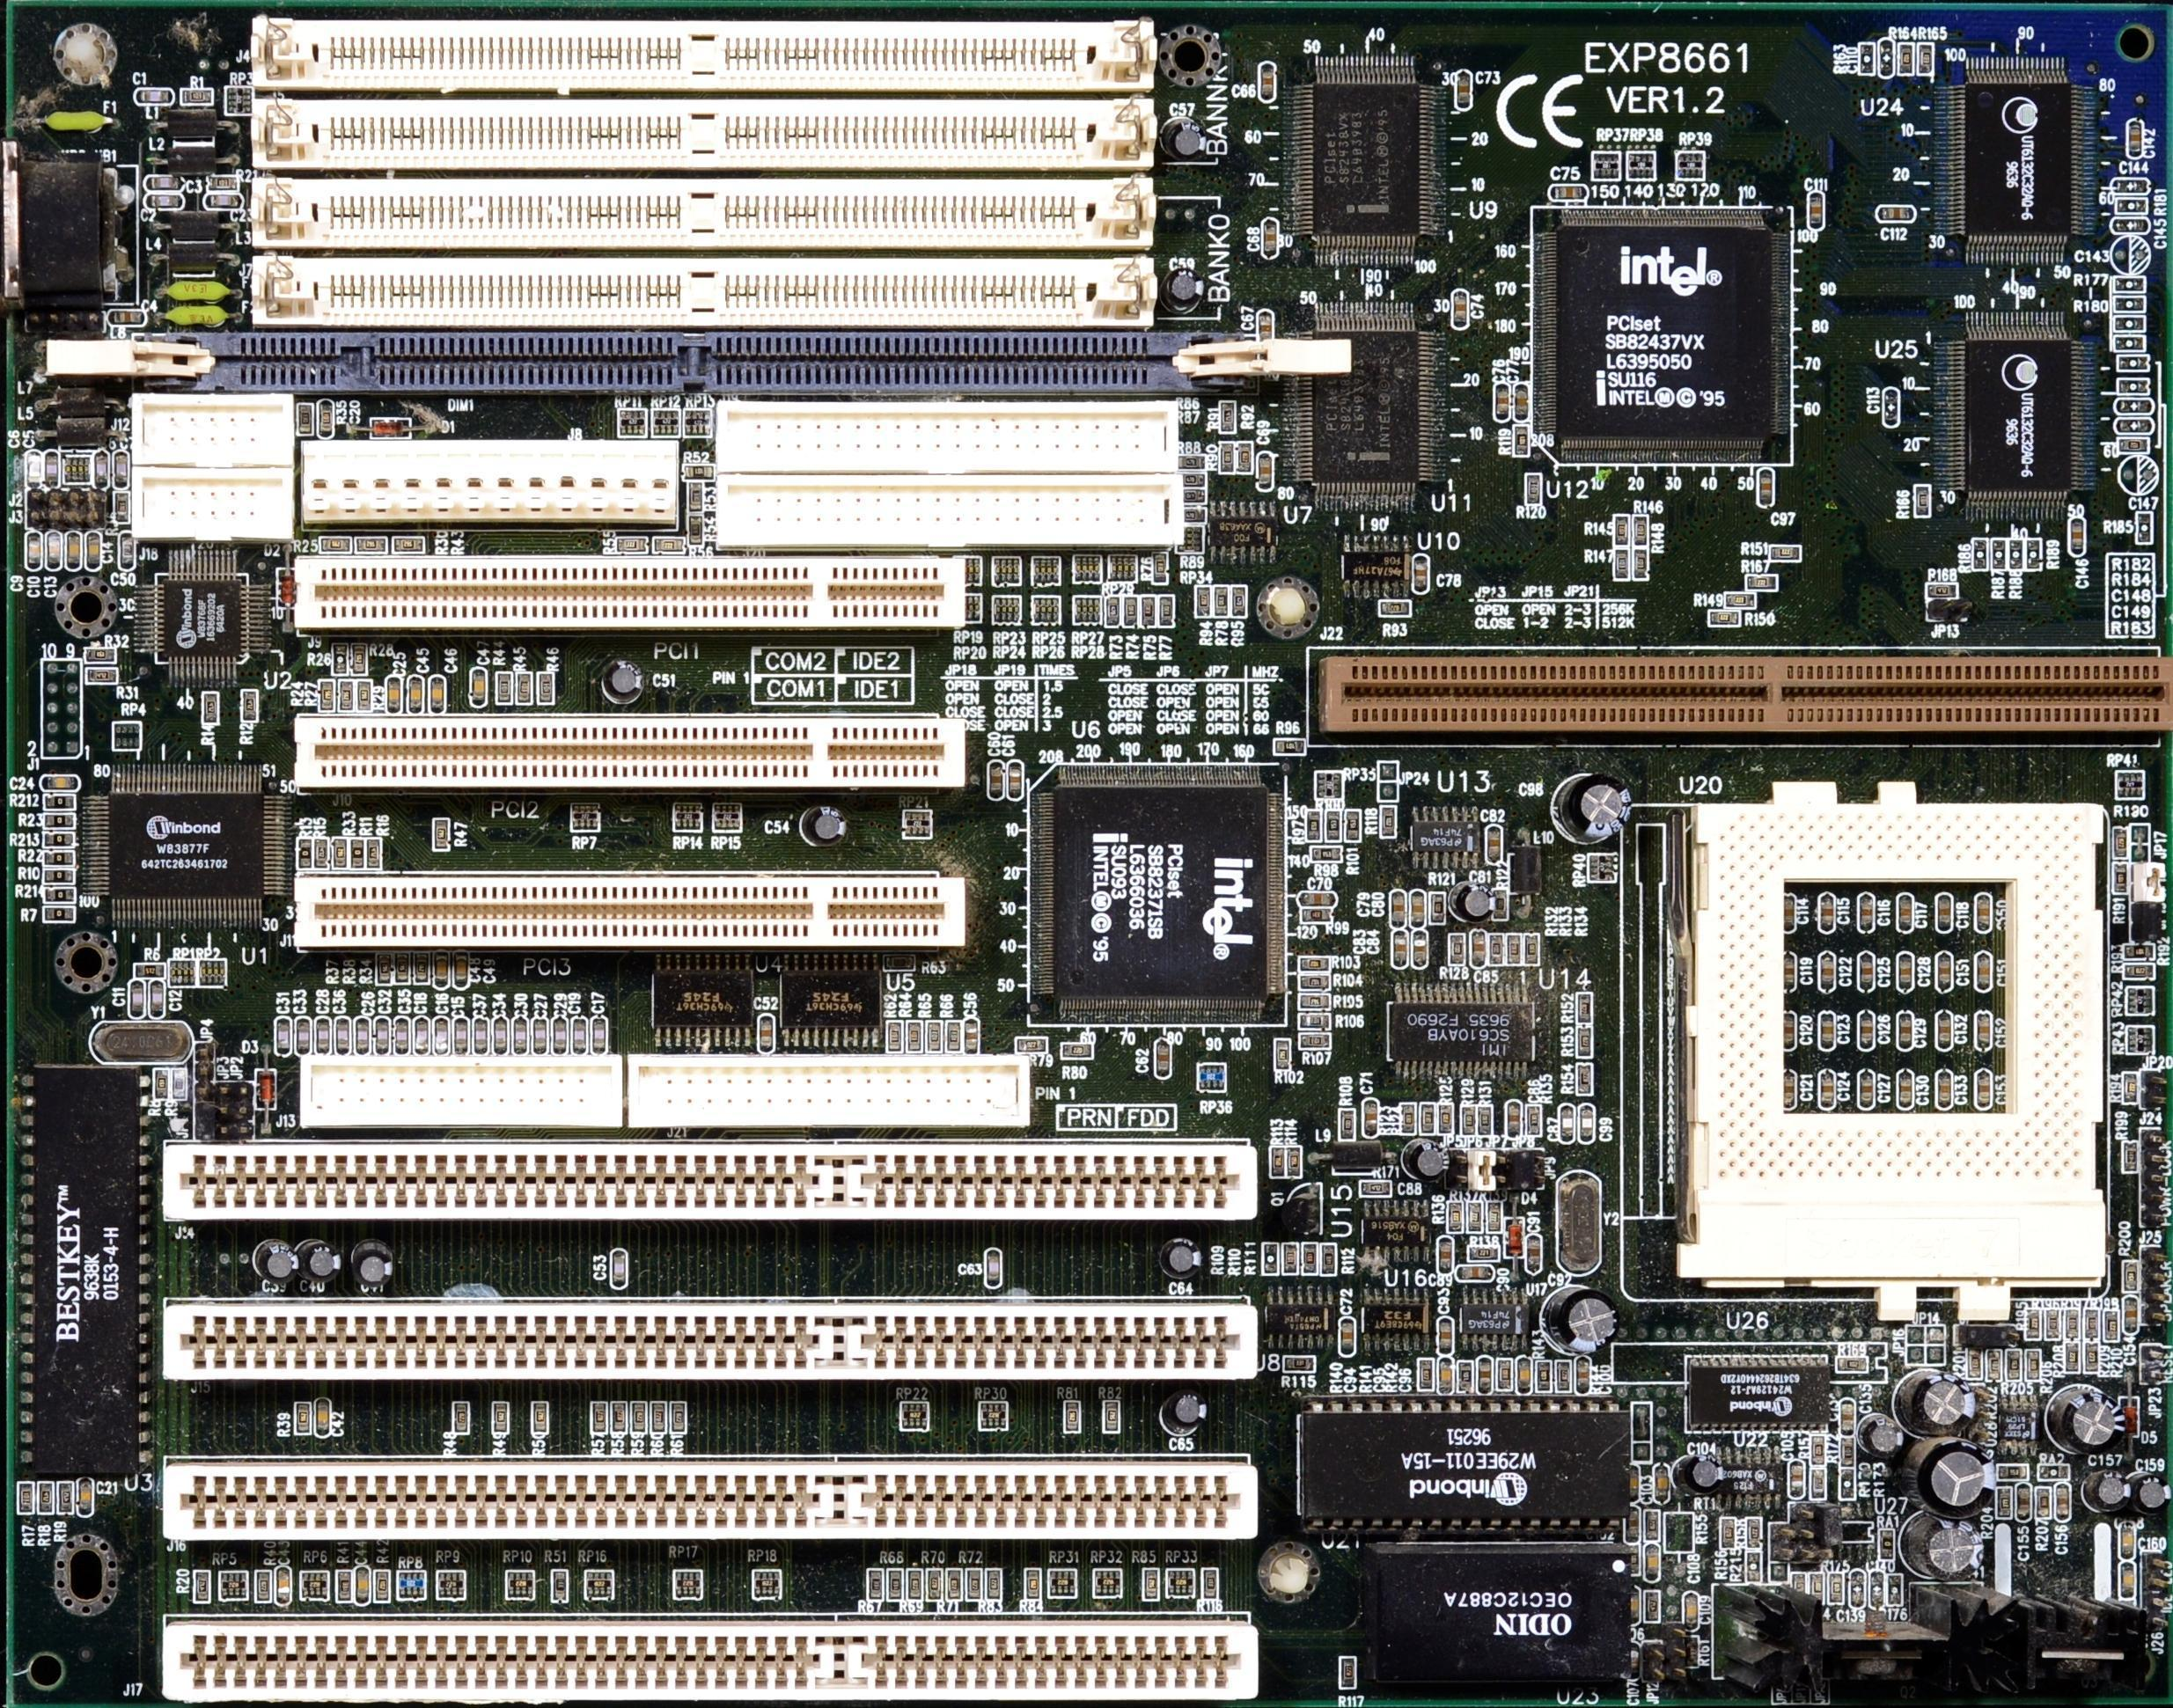Capacitor: (1452, 883, 1491, 921), (1854, 1005, 1880, 1052), (1932, 946, 1956, 994), (1969, 951, 1994, 994), (1881, 385, 1902, 437), (1972, 1064, 1995, 1111), (1934, 1067, 1956, 1112), (1816, 1008, 1840, 1050), (1895, 947, 1916, 993), (1854, 951, 1877, 993), (1856, 886, 1875, 935), (2123, 121, 2147, 161), (606, 1247, 629, 1287), (1934, 891, 1955, 934), (1976, 1005, 1995, 1051), (2112, 212, 2148, 237), (1934, 1010, 1953, 1053), (1973, 892, 1993, 935), (1818, 953, 1838, 995), (1337, 1315, 1356, 1356), (2118, 1562, 2137, 1602), (144, 194, 186, 213), (2118, 1521, 2138, 1560), (41, 449, 60, 487), (985, 764, 1004, 802), (393, 1013, 410, 1055), (1435, 1235, 1452, 1276), (355, 1565, 371, 1608), (1898, 1008, 1913, 1053), (1756, 473, 1778, 503), (318, 400, 337, 437), (65, 531, 84, 568), (1782, 1009, 1799, 1051), (1818, 1068, 1837, 1108), (1579, 1103, 1596, 1145), (1787, 1459, 1805, 1499), (1255, 307, 1276, 341), (963, 1018, 980, 1063), (135, 89, 173, 106), (127, 981, 146, 1017), (532, 1011, 549, 1050), (432, 1013, 451, 1052), (415, 1015, 433, 1053), (547, 1018, 567, 1054), (2014, 1484, 2032, 1522), (1642, 1544, 1661, 1579), (114, 449, 130, 488), (473, 1012, 489, 1053), (760, 1014, 776, 1055), (1438, 1317, 1455, 1354), (78, 1479, 95, 1515), (1623, 1587, 1641, 1625), (1682, 1591, 1699, 1628), (1260, 219, 1278, 255), (1452, 291, 1470, 327), (94, 451, 111, 488), (25, 531, 43, 570), (1387, 893, 1406, 927), (1409, 889, 1425, 929), (1898, 892, 1914, 932), (1896, 1070, 1912, 1110), (1849, 1567, 1865, 1607), (1857, 1067, 1872, 1110), (1809, 193, 1825, 228), (1879, 204, 1913, 223), (1413, 556, 1431, 593), (515, 1012, 531, 1051), (1525, 1235, 1541, 1274), (1457, 1266, 1495, 1281), (276, 1569, 293, 1608), (1868, 1570, 1884, 1609), (409, 677, 425, 716), (1782, 891, 1796, 934), (573, 1015, 587, 1057), (1362, 1096, 1376, 1139), (2112, 179, 2147, 195), (1818, 893, 1834, 931), (277, 1018, 292, 1055), (1259, 452, 1274, 489), (495, 1016, 509, 1057), (1547, 186, 1588, 199), (989, 1249, 1002, 1294), (1391, 932, 1408, 968), (149, 981, 165, 1017), (1839, 1401, 1856, 1436), (204, 195, 239, 211), (1496, 386, 1512, 421), (2072, 519, 2089, 555), (83, 534, 99, 570), (1516, 1356, 1531, 1394), (1459, 74, 1474, 108), (452, 951, 467, 985), (1560, 1107, 1575, 1140), (2057, 1485, 2072, 1519), (146, 172, 180, 188), (27, 451, 42, 484), (43, 774, 77, 789), (1262, 62, 1279, 95), (356, 1016, 371, 1053), (591, 1017, 606, 1054), (1783, 1071, 1798, 1108), (317, 1400, 331, 1436), (1413, 932, 1427, 968), (317, 1016, 332, 1052), (297, 1018, 311, 1054), (1654, 1467, 1668, 1501), (48, 533, 62, 568), (472, 667, 485, 701), (429, 678, 444, 715), (340, 1015, 353, 1053), (455, 1015, 468, 1054), (1520, 385, 1533, 422), (1439, 1360, 1453, 1393), (1880, 42, 1895, 77), (1626, 1506, 1638, 1543), (435, 951, 448, 984), (120, 535, 135, 567), (1007, 763, 1022, 795), (1472, 931, 1486, 966), (377, 1018, 390, 1053), (1506, 1101, 1519, 1137), (1478, 1357, 1491, 1393), (1576, 1360, 1589, 1395), (1785, 951, 1795, 993), (389, 678, 401, 711), (1488, 827, 1501, 861), (2125, 1295, 2136, 1332), (1298, 893, 1334, 905), (1628, 1467, 1638, 1500), (1629, 1644, 1638, 1677)
Connector: (162, 1455, 1261, 1540), (166, 1303, 1253, 1382), (55, 331, 1292, 394), (166, 1148, 1256, 1217), (249, 171, 1164, 250), (172, 1621, 1239, 1688), (253, 15, 1152, 92), (261, 259, 1152, 324), (257, 104, 1146, 166), (300, 713, 963, 792), (290, 874, 969, 952), (309, 1056, 1030, 1125), (296, 561, 961, 626), (722, 402, 1186, 473), (720, 479, 1180, 544), (307, 437, 681, 516), (135, 396, 294, 466), (127, 480, 296, 534)
IC: (1529, 202, 1792, 470), (1034, 756, 1288, 1017), (14, 1069, 154, 1476), (1299, 1385, 1633, 1533), (1360, 1546, 1633, 1690), (84, 765, 291, 925), (1290, 57, 1447, 268), (1283, 310, 1449, 498), (1938, 66, 2101, 252), (1954, 312, 2097, 514), (139, 551, 272, 685), (1380, 979, 1542, 1081), (773, 954, 891, 1053), (650, 954, 758, 1054), (1684, 1359, 1821, 1424), (1258, 1283, 1335, 1350), (1210, 498, 1282, 563), (1360, 1201, 1433, 1265), (1458, 1289, 1532, 1349), (1361, 1291, 1428, 1351), (1344, 537, 1411, 597), (1409, 811, 1482, 863)
Resistor: (1060, 1395, 1084, 1441), (1171, 495, 1206, 524), (187, 1569, 212, 1604), (924, 1022, 946, 1057), (548, 1565, 567, 1606), (885, 953, 918, 974), (295, 1401, 315, 1435), (2115, 275, 2144, 298), (180, 87, 215, 106), (1199, 1566, 1219, 1602), (966, 1566, 986, 1602), (253, 1566, 271, 1606), (1744, 572, 1776, 593), (1723, 591, 1755, 612), (1377, 597, 1415, 616), (1295, 972, 1328, 992), (1274, 1040, 1292, 1074), (2102, 1309, 2122, 1343), (1098, 1398, 1118, 1431), (1808, 1466, 1828, 1500), (2117, 198, 2149, 216), (1989, 541, 2009, 575), (339, 678, 357, 711), (1359, 1179, 1393, 1197), (1416, 1357, 1435, 1392), (1886, 1573, 1903, 1609), (1612, 548, 1630, 584), (1994, 1488, 2014, 1519), (1142, 1570, 1160, 1602), (1766, 544, 1798, 563), (315, 680, 334, 712), (1573, 1029, 1594, 1058), (2112, 332, 2141, 353), (135, 963, 167, 980), (1278, 1243, 1296, 1276), (650, 1397, 667, 1432), (1838, 1466, 1856, 1500), (683, 465, 716, 482), (909, 1569, 924, 1606), (330, 645, 349, 676), (2125, 943, 2156, 961), (376, 954, 391, 988), (2121, 964, 2156, 979), (885, 1017, 903, 1049), (907, 1022, 924, 1054), (169, 1069, 187, 1101), (1319, 1242, 1337, 1273), (1281, 1357, 1315, 1374), (491, 1400, 509, 1432), (868, 1567, 886, 1598), (1220, 400, 1236, 436), (1173, 453, 1204, 471), (319, 535, 350, 553), (2008, 539, 2024, 571), (1926, 583, 1962, 597), (84, 648, 117, 664), (1274, 739, 1309, 755), (530, 1403, 548, 1432), (297, 403, 315, 432), (2118, 416, 2156, 430), (1914, 46, 1933, 75), (415, 949, 430, 984), (1487, 1201, 1503, 1235), (2083, 1307, 2099, 1339), (2036, 1485, 2052, 1519), (207, 177, 240, 192), (1860, 44, 1876, 77), (1903, 44, 1919, 78), (353, 644, 368, 677), (43, 794, 76, 809), (393, 951, 410, 982), (1270, 1147, 1287, 1177), (1220, 443, 1237, 474), (1611, 517, 1630, 546), (1156, 554, 1172, 585), (203, 693, 220, 722), (337, 1568, 351, 1605), (2116, 381, 2154, 394), (1194, 591, 1215, 616), (1429, 891, 1444, 921), (1450, 935, 1465, 965), (948, 1022, 964, 1054), (1467, 1199, 1483, 1230), (1263, 1243, 1279, 1274), (1836, 1358, 1868, 1374), (1457, 1360, 1473, 1393), (18, 1482, 34, 1514), (1828, 1574, 1843, 1605), (1526, 473, 1541, 504), (114, 492, 128, 524), (2136, 510, 2152, 543), (1972, 537, 1987, 570), (84, 669, 115, 685), (44, 887, 73, 904), (1465, 1248, 1501, 1262), (672, 1398, 686, 1433), (2036, 1465, 2070, 1478), (2118, 354, 2154, 369), (392, 539, 427, 553), (435, 815, 448, 850), (1300, 956, 1330, 971), (155, 1069, 171, 1099), (1400, 1103, 1416, 1133), (1339, 1110, 1354, 1141), (2024, 1309, 2040, 1339), (2064, 1309, 2080, 1340), (1745, 1518, 1761, 1548), (1720, 1518, 1735, 1548), (988, 1570, 1003, 1601), (1633, 552, 1648, 583), (43, 813, 73, 829), (45, 831, 75, 847), (1297, 997, 1332, 1011), (1528, 1103, 1541, 1136), (1536, 1360, 1551, 1393), (1809, 1572, 1823, 1605), (355, 539, 387, 553), (245, 689, 259, 722), (1346, 810, 1360, 842), (42, 869, 76, 883), (616, 1400, 628, 1436), (1506, 932, 1520, 964), (1298, 1015, 1330, 1029), (1297, 1034, 1331, 1049), (1577, 1066, 1592, 1095), (2124, 1143, 2138, 1174), (2004, 1351, 2020, 1379), (1557, 1361, 1571, 1393), (456, 1402, 469, 1433), (58, 1483, 73, 1514), (1646, 1509, 1659, 1540), (1745, 1552, 1761, 1580), (945, 1567, 961, 1595), (376, 1571, 390, 1602), (688, 483, 703, 511), (1634, 515, 1649, 546), (1159, 595, 1175, 622), (516, 673, 532, 702), (45, 852, 76, 866), (1288, 1145, 1302, 1179), (1126, 594, 1137, 629), (1489, 935, 1502, 964), (1523, 935, 1536, 964), (1460, 1106, 1475, 1137), (1302, 1244, 1317, 1275), (1497, 1360, 1511, 1389), (1708, 610, 1739, 624), (498, 671, 512, 702), (357, 680, 372, 711), (1182, 492, 1208, 507), (634, 1398, 645, 1432), (1024, 1569, 1038, 1602), (1341, 1656, 1354, 1690), (2113, 861, 2125, 895), (2117, 400, 2155, 410), (1477, 1107, 1491, 1135), (2124, 1263, 2137, 1291), (1515, 426, 1529, 454), (1178, 473, 1206, 487), (620, 539, 647, 553), (538, 671, 553, 700), (334, 838, 349, 866), (314, 839, 328, 868), (1494, 889, 1507, 920), (1577, 993, 1589, 1024), (1421, 1103, 1433, 1134), (1448, 1203, 1464, 1228), (2045, 1308, 2059, 1340), (2026, 1351, 2039, 1382), (1998, 1464, 2030, 1477), (40, 1482, 52, 1514), (2110, 299, 2147, 311), (1840, 1440, 1854, 1466), (1916, 489, 1929, 517), (1298, 908, 1329, 920), (46, 907, 77, 920), (1439, 1103, 1452, 1133), (1969, 1350, 1980, 1381), (1813, 1434, 1826, 1464), (928, 1567, 940, 1596), (1242, 443, 1254, 474), (690, 515, 702, 545), (654, 538, 685, 550), (1142, 597, 1153, 628), (1328, 811, 1340, 841), (2114, 829, 2127, 859), (368, 837, 381, 867), (593, 1400, 604, 1433), (889, 1569, 900, 1602), (299, 838, 311, 870), (2123, 1075, 2135, 1103), (1986, 1351, 1998, 1378), (1382, 805, 1393, 834), (1307, 813, 1319, 840), (352, 839, 364, 868), (2112, 319, 2144, 330), (1310, 848, 1342, 860), (1231, 586, 1244, 612), (2028, 537, 2039, 567), (2068, 1345, 2080, 1373), (1215, 586, 1226, 613), (1107, 597, 1119, 624), (2084, 1345, 2096, 1372)
